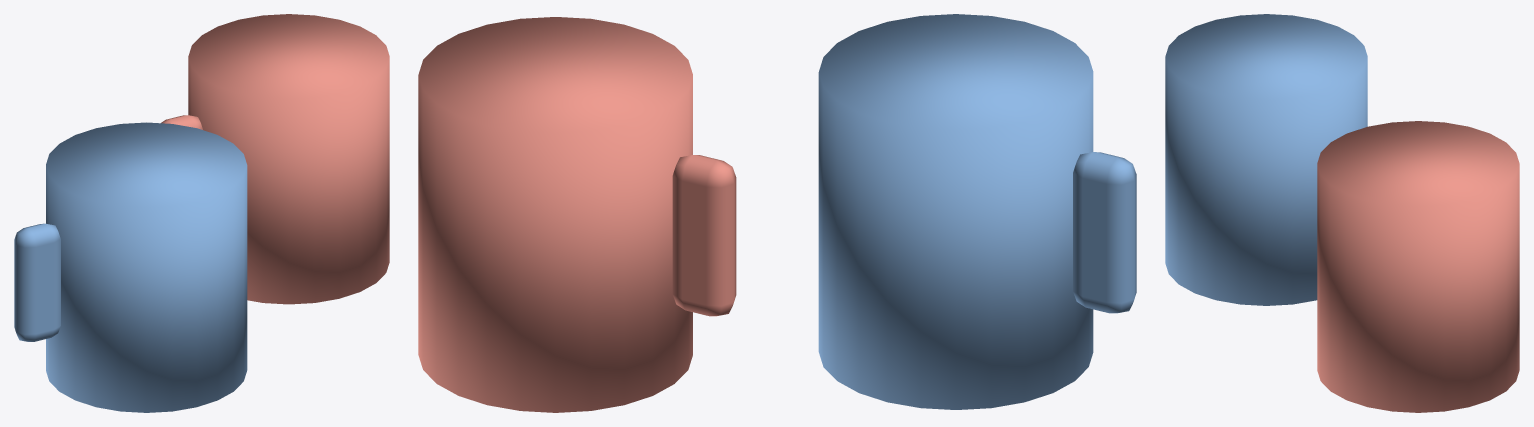
File: escena.casa.dos_tazas.fbx
3 renders of one model, left to right at view 1: azimuth 30°, elevation 25°; view 2: azimuth 150°, elevation 25°; view 3: azimuth 270°, elevation 25°, orthographic. The views are drawn at different scales.
Parts seen in each view (by area): view 1: Taza.001, Taza, Asa.001, Asa; view 2: Taza.001, Taza, Asa, Asa.001; view 3: Taza, Taza.001.
Boxes of the visible parts, x1,y1,x2,y2 form: Taza.001: [46, 122, 247, 412]; Taza: [188, 14, 389, 304]; Asa.001: [14, 223, 60, 341]; Asa: [161, 115, 202, 129]; Taza.001: [818, 14, 1093, 409]; Taza: [418, 17, 692, 412]; Asa: [672, 155, 736, 316]; Asa.001: [1073, 152, 1136, 313]; Taza: [1317, 121, 1519, 412]; Taza.001: [1165, 14, 1367, 305].
Size of the model in its own units: 0.2 by 0.09 by 0.14.
